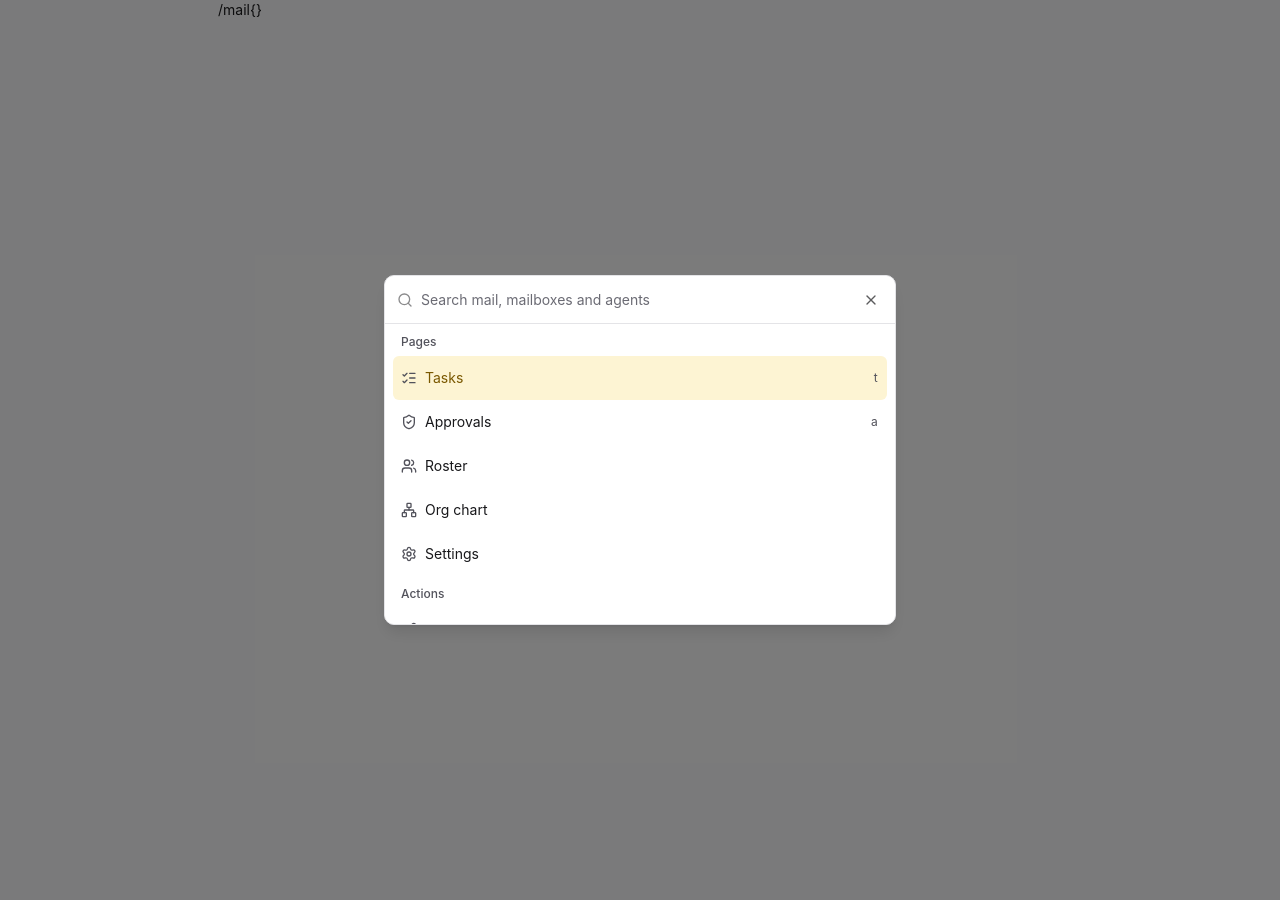
Test case: CommandPalette › shows the Mailboxes heading above mailbox hits
Step 1. Type "acme/api" into the dropdown with placeholder "Search mail, mailboxes and agents" → (652, 300), box [421, 276, 883, 324]
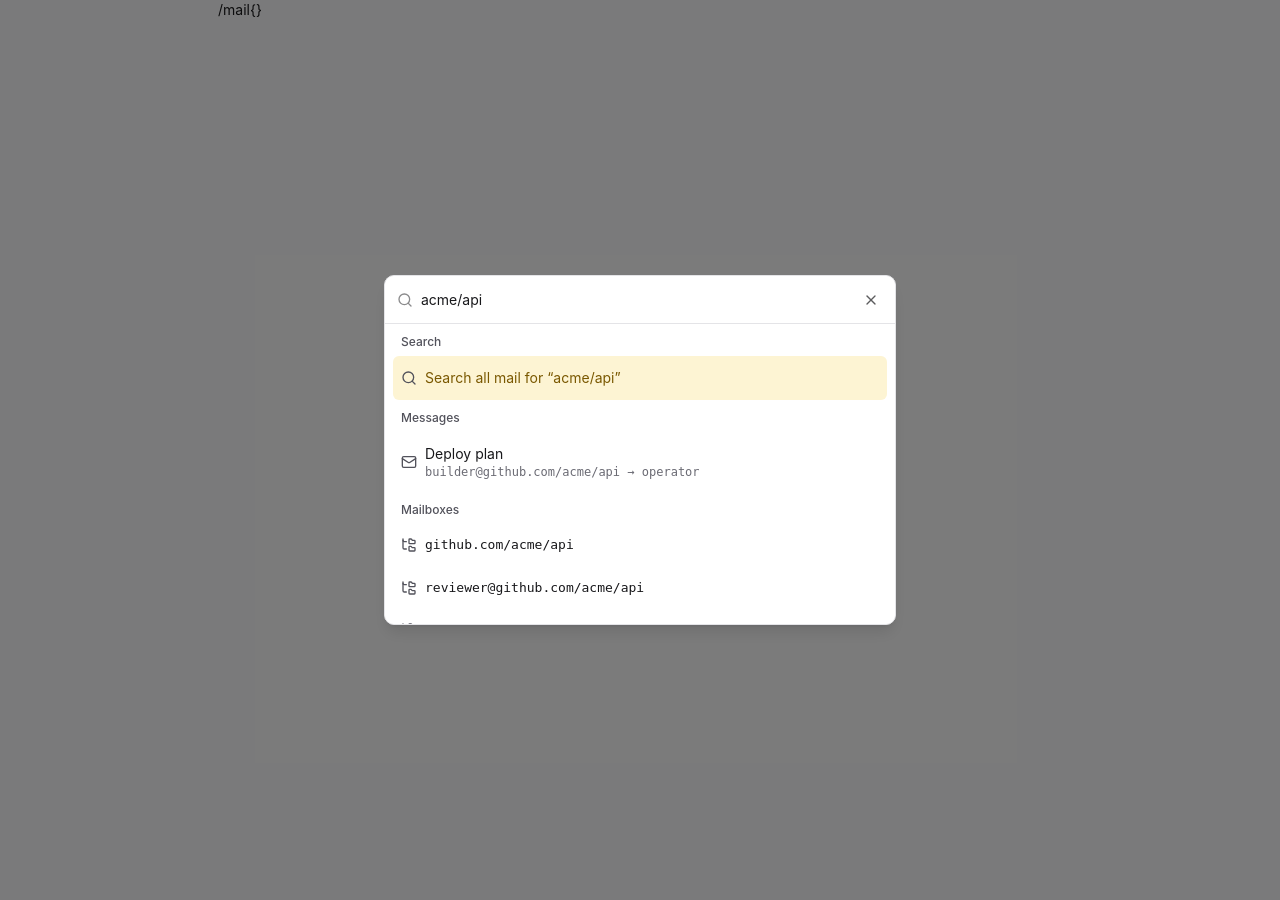
Now the option "github.com/acme/api" is shown, box [401, 537, 574, 553]
